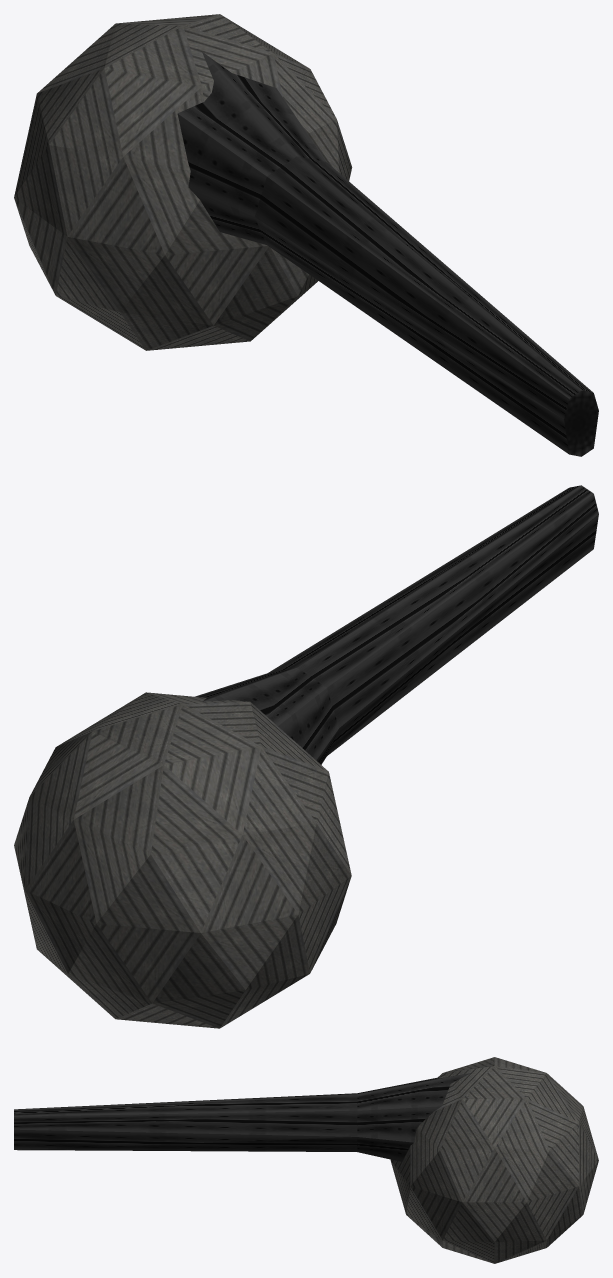
File: HeliconTurret.fbx
The picture shows the model from 3 angles, top to bottom: view 1: azimuth 30°, elevation 25°; view 2: azimuth 150°, elevation 25°; view 3: azimuth 270°, elevation 25°; orthographic projection. The views are drawn at different scales.
Parts seen in each view (by area): view 1: HeliconTurret; view 2: HeliconTurret; view 3: HeliconTurret.
Part boxes in pixels (x1=…): HeliconTurret: x1=14, y1=14, x2=598, y2=456; HeliconTurret: x1=14, y1=485, x2=598, y2=1028; HeliconTurret: x1=14, y1=1057, x2=598, y2=1263.
Size of the model in its own units: 54.29 by 57.09 by 160.
